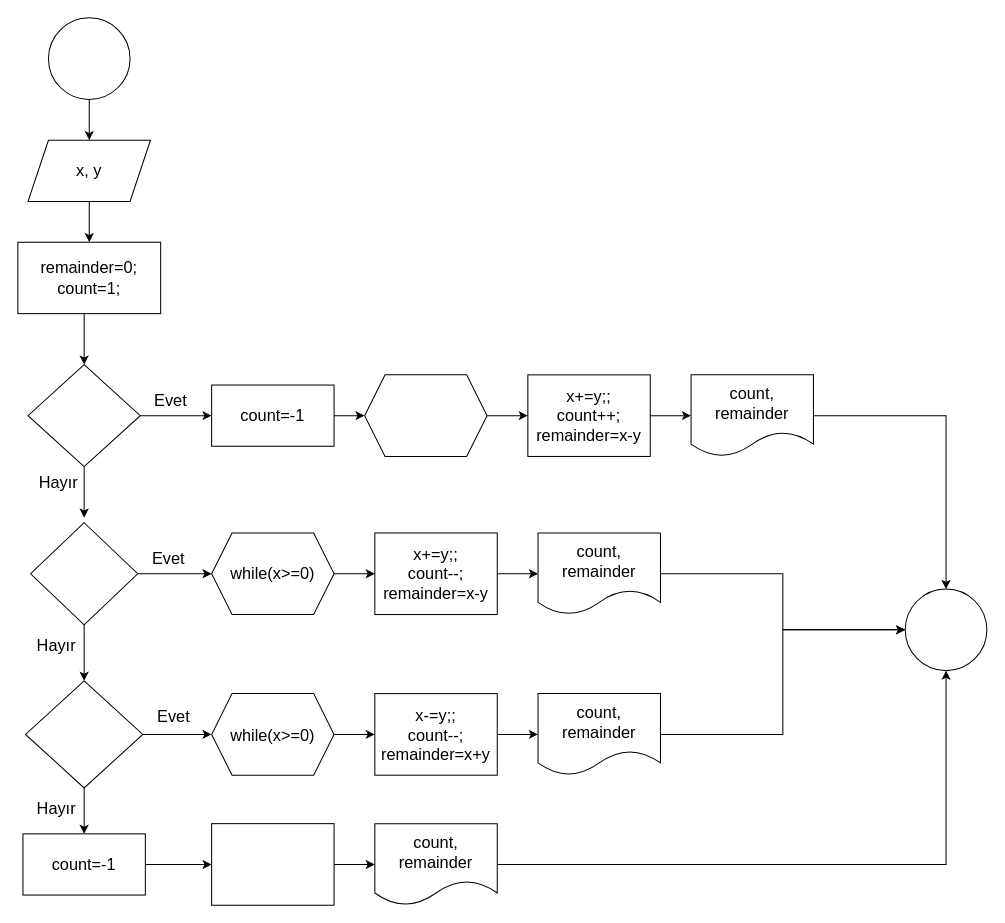
This 1005x923 diagram has some shape labels left out. Here are the shapes that lost their labels. From the top down, the centre of each, then its label:
At point 88,58: "Basla".
At point 83,415: "x<0 && y>0".
At point 425,415: "while(x<=0)".
At point 84,573: "x>0 && y<0".
At point 945,629: "Bitir".
At point 83,734: "x<0 && y<0".
At point 272,864: "x-=y;; count++; remainder=x+y".
